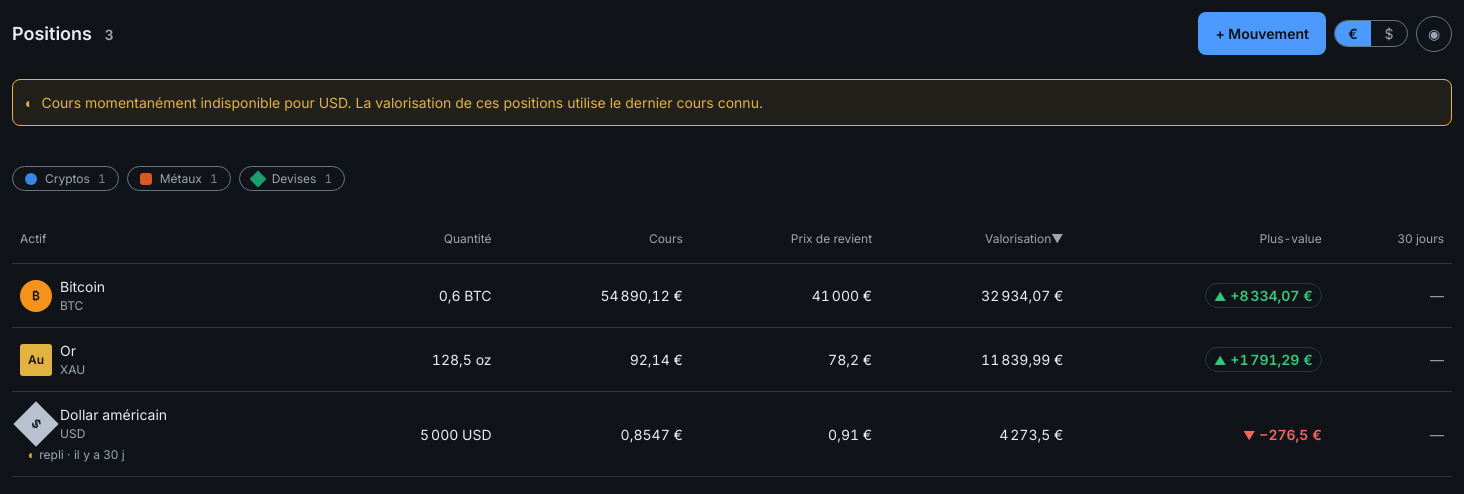
Scenario: accessibilité et affichage › masque les montants sans masquer la structure de la liste
Expected: the table is shown, [12, 215, 1452, 477]
Click the button named "Masquer les montants" at (1434, 34), box [1416, 16, 1452, 52]
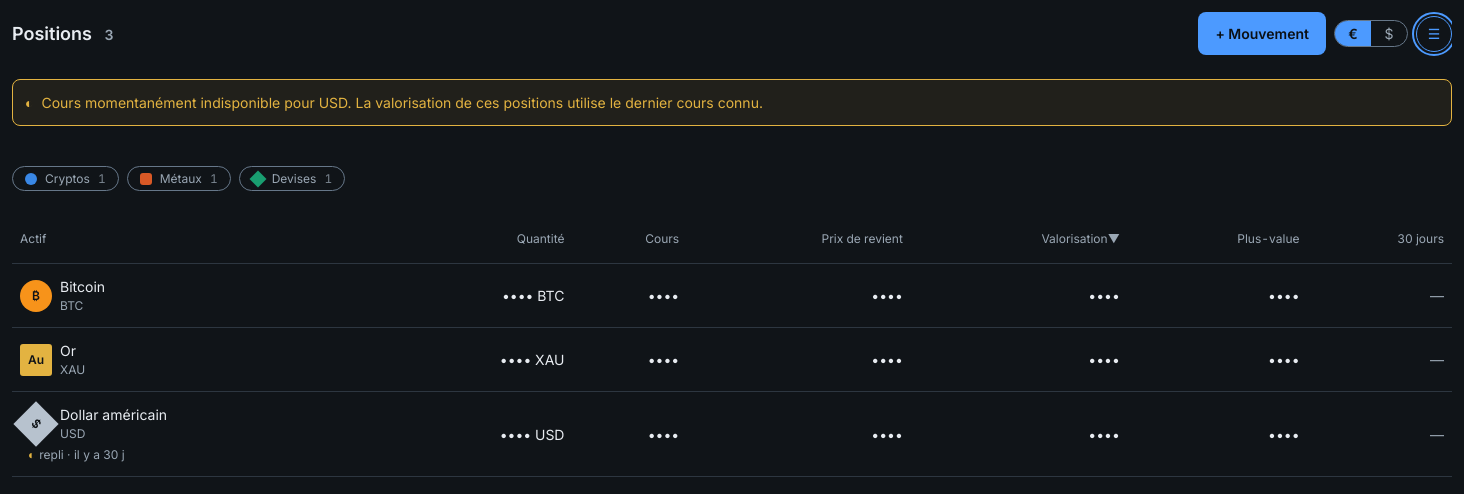
Now the text "32.934,07" is gone
